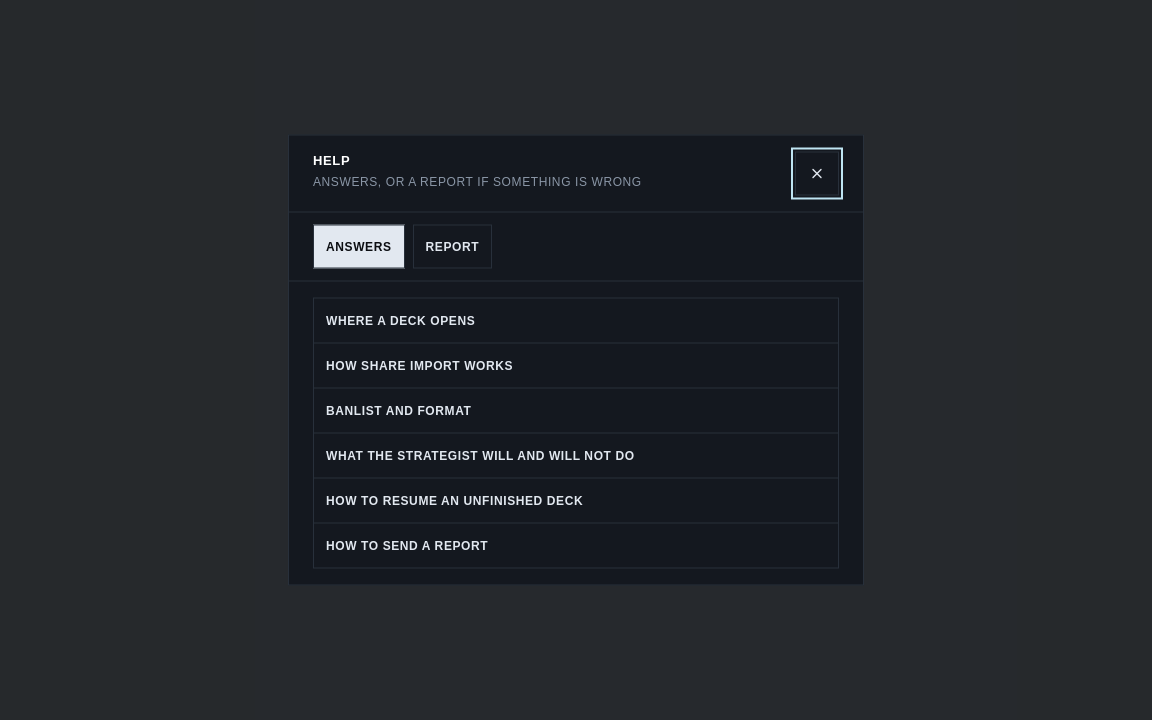
Test case: HelpDialog › shows an error summary and keeps the typed message when the category is missing
Click the tab "Report" at [452, 246], box [412,224,492,268]
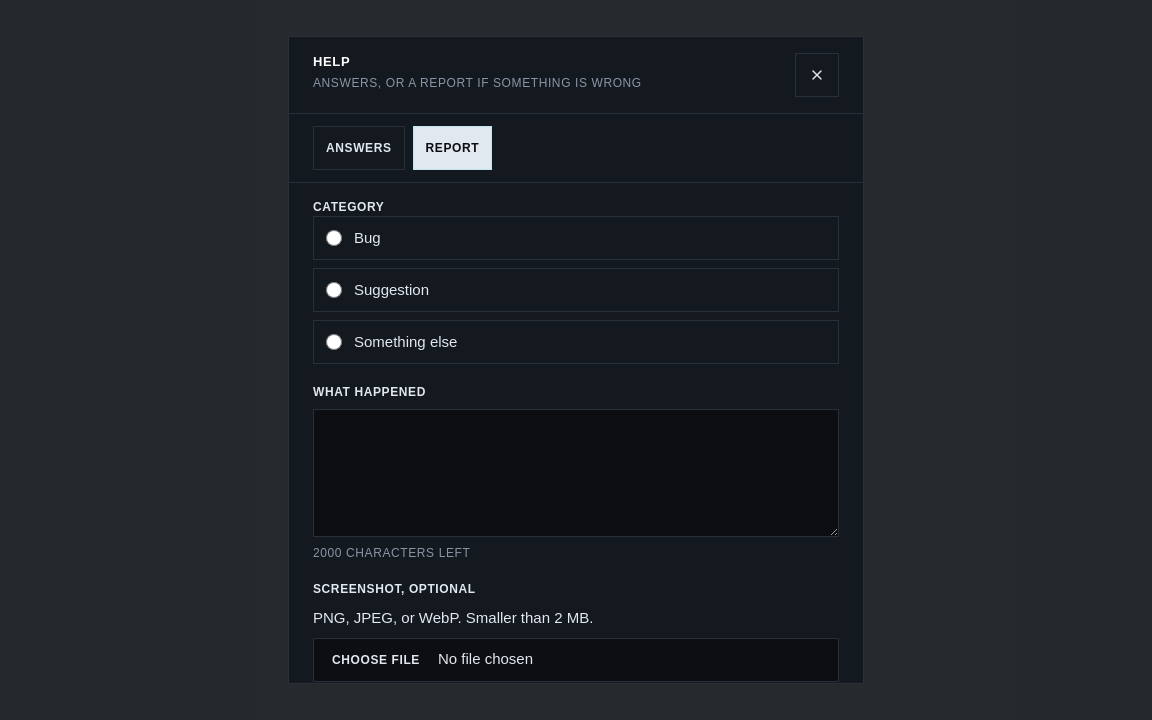
Type "Search kept the old query." into the text box labelled "What happened" at [576, 473], box [313,409,839,537]
(page scrolled)
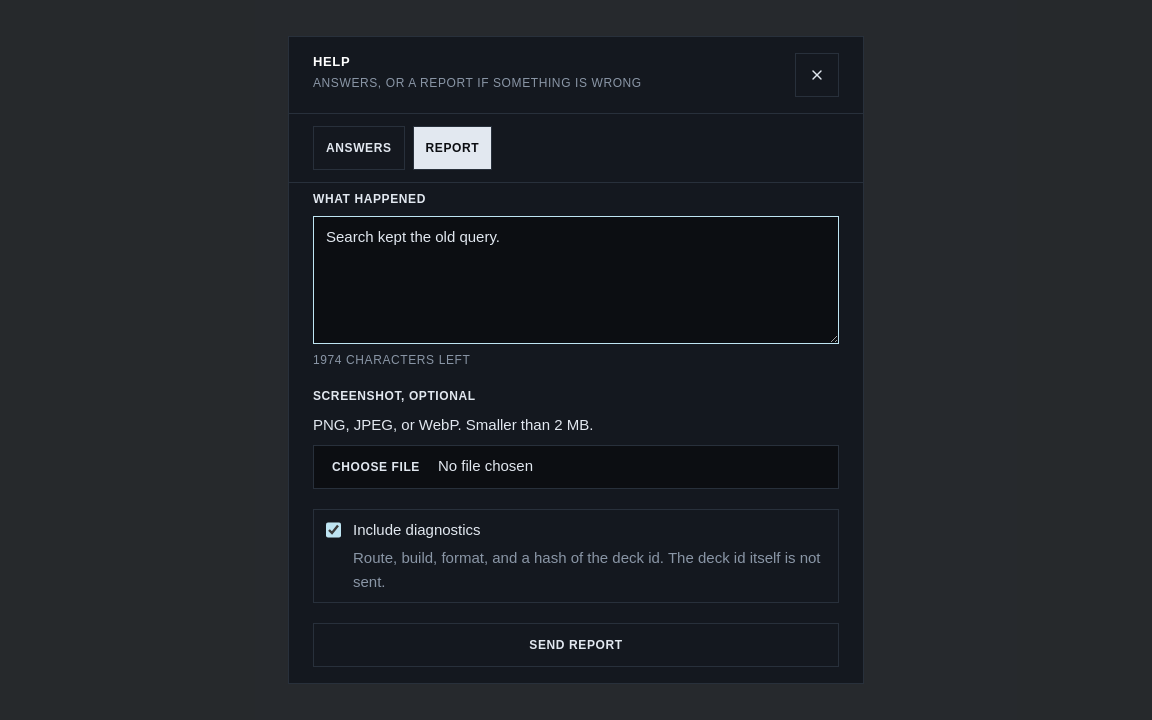
Click the button "Send report" at [576, 645], box [313,623,839,667]
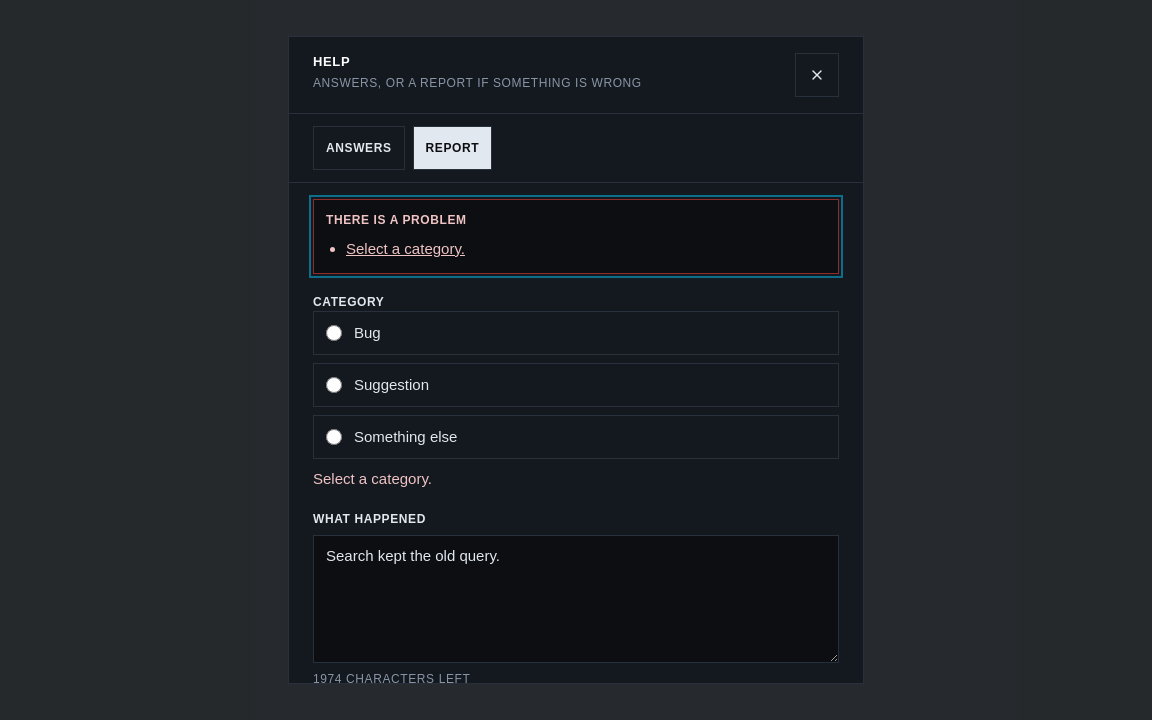
Check: the message shows "Select a category.", box [346,240,465,257]
